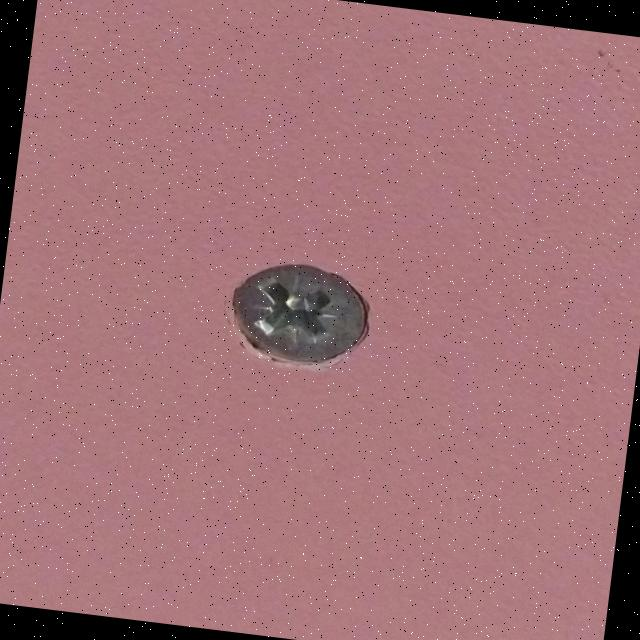Pozidriv: (218, 249, 390, 382)
